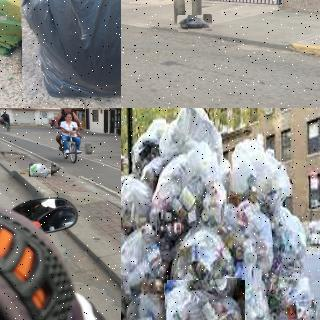Garbage: (19, 0, 121, 100), (147, 148, 232, 239), (172, 229, 236, 301), (229, 139, 295, 207), (121, 224, 176, 303), (159, 108, 228, 166), (165, 278, 246, 320), (267, 207, 310, 276), (272, 269, 320, 320), (121, 274, 173, 320), (121, 172, 157, 225), (178, 15, 212, 32), (29, 162, 51, 177), (46, 162, 60, 174)
